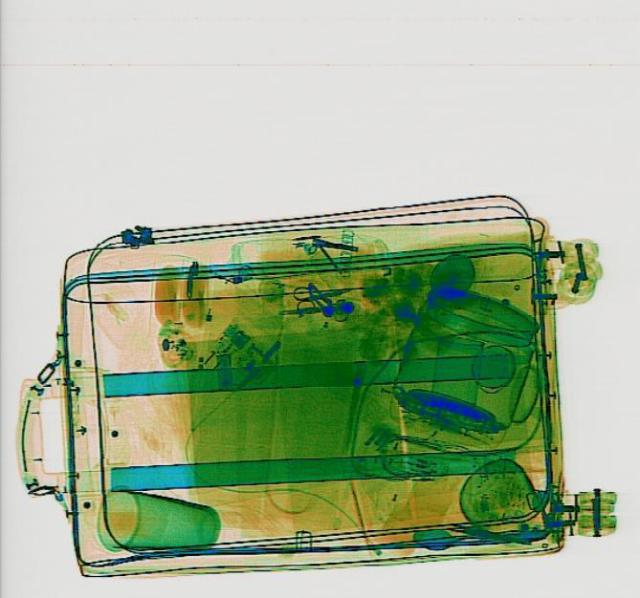Scissors: (288, 273, 358, 315)
